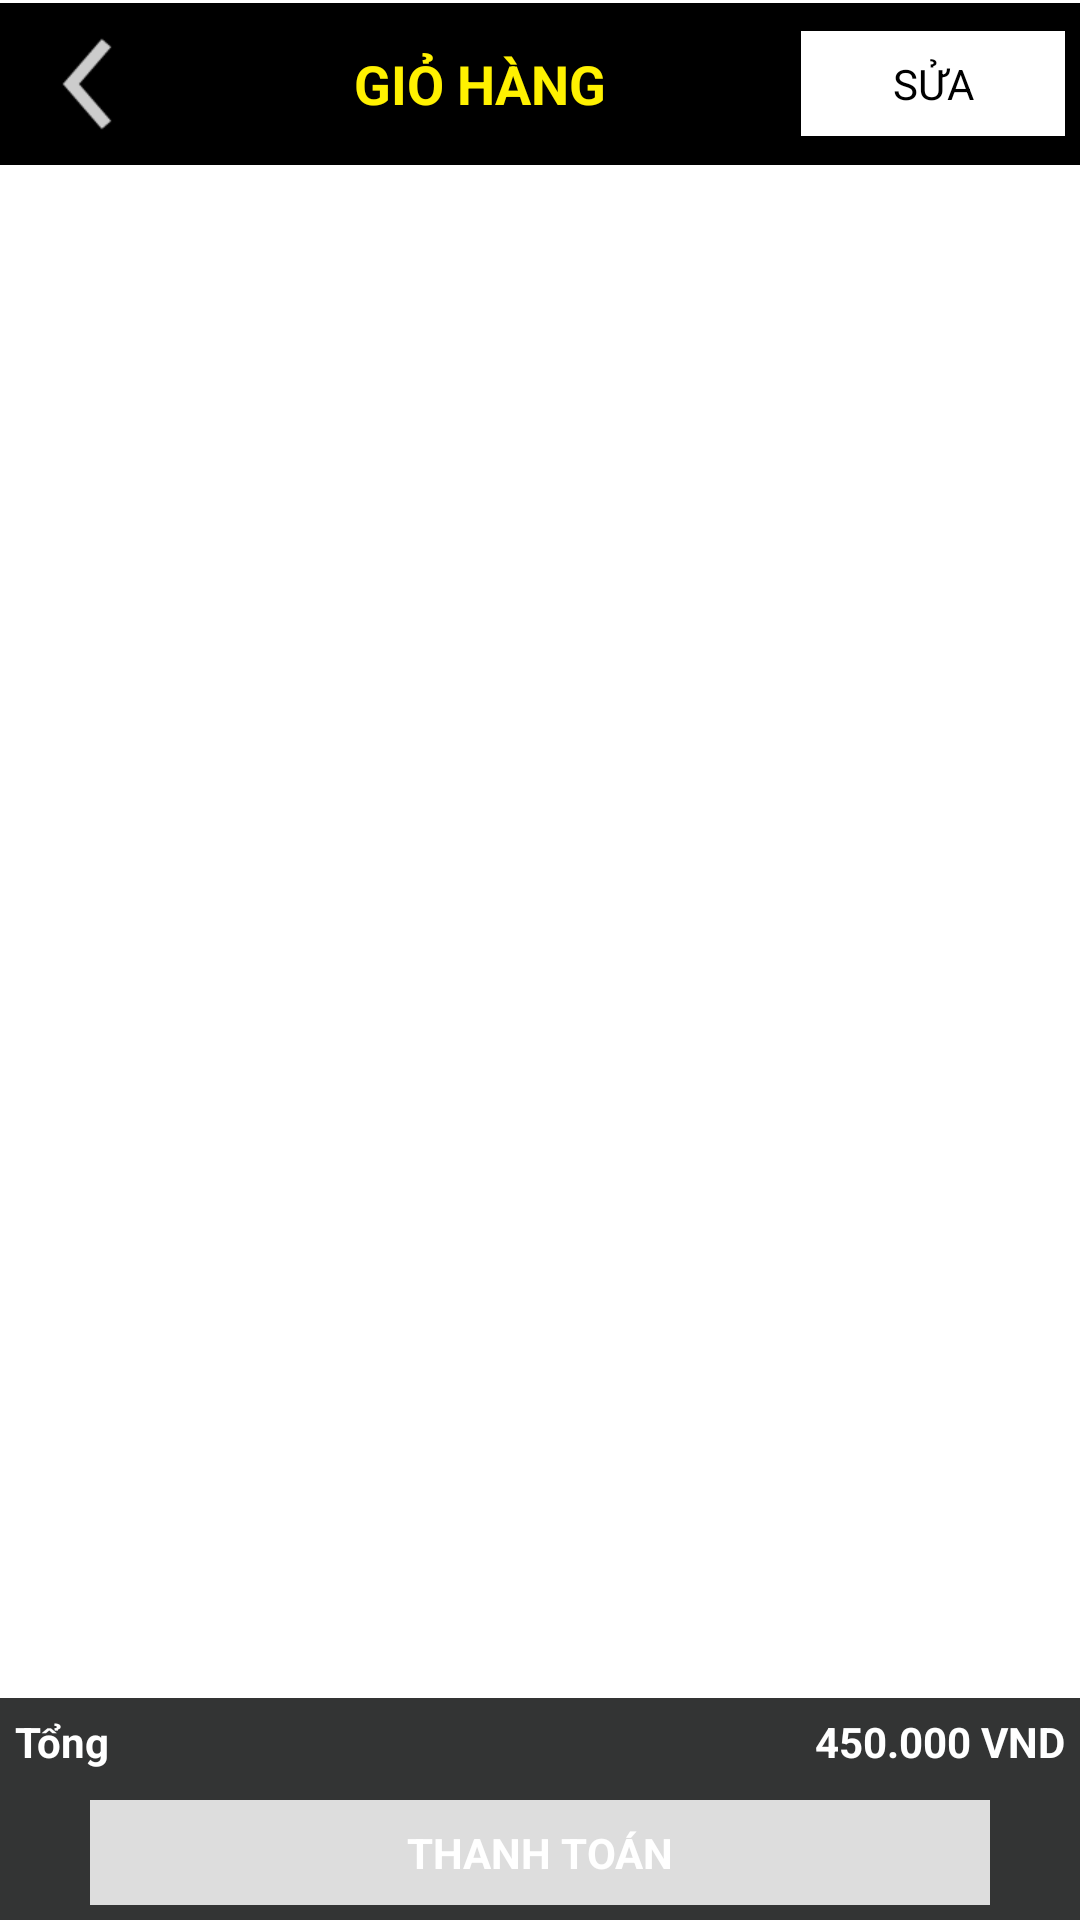

Screen size 1080px x 1920px. Icon name, then its center in pixels as [x,y]:
back: [87,84]
